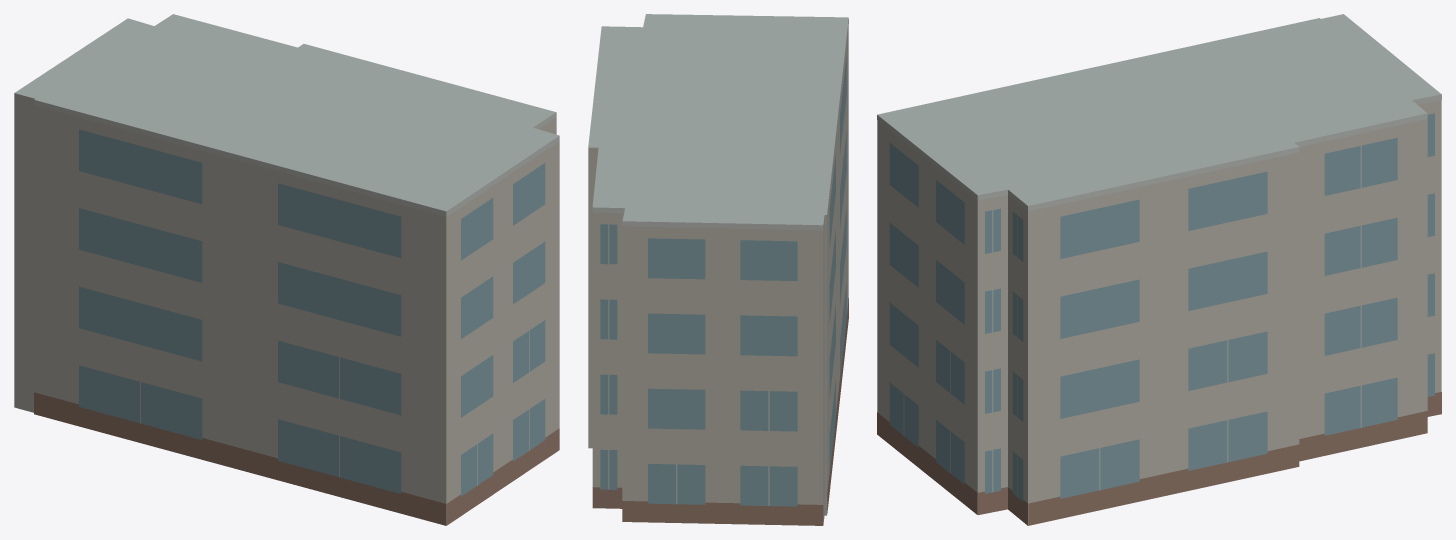
Rendered from survey-upis-33018771.glb.
The picture shows the model from 3 angles, left to right: view 1: azimuth 30°, elevation 25°; view 2: azimuth 150°, elevation 25°; view 3: azimuth 270°, elevation 25°; orthographic projection. The views are drawn at different scales.
Visible parts, largest first — view 1: survey-upis-33018771.tmp; view 2: survey-upis-33018771.tmp; view 3: survey-upis-33018771.tmp.
Boxes of the visible parts, left/top/right/bottom form: survey-upis-33018771.tmp: left=14, top=14, right=559, bottom=525; survey-upis-33018771.tmp: left=588, top=14, right=848, bottom=525; survey-upis-33018771.tmp: left=877, top=14, right=1441, bottom=525.
Size of the model in its own units: 18.49 by 14.35 by 22.97.
